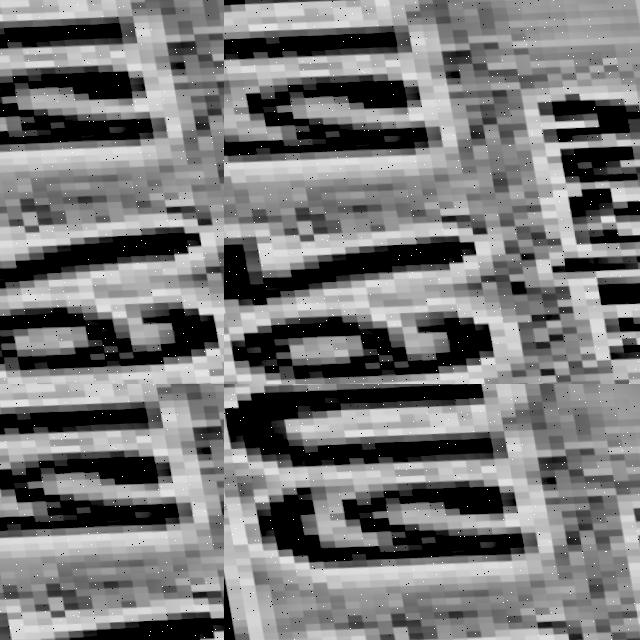license-plate: (224, 384, 640, 640), (0, 0, 224, 384)
